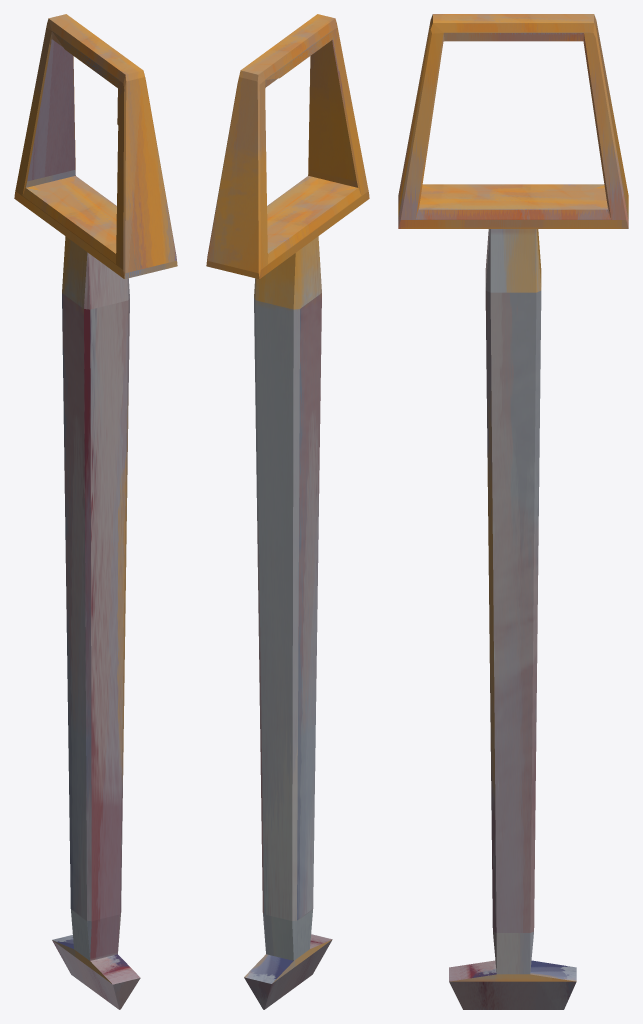
Rendered from LO_panel_opener.glb.
3 views of the same model, side by side, from view 1: azimuth 30°, elevation 25°; view 2: azimuth 150°, elevation 25°; view 3: azimuth 270°, elevation 25° (orthographic). The views are drawn at different scales.
Visible parts, largest first — view 1: panel opener; view 2: panel opener; view 3: panel opener.
Boxes of the visible parts, x1=… form: panel opener: x1=14, y1=14, x2=177, y2=1009; panel opener: x1=206, y1=14, x2=369, y2=1009; panel opener: x1=398, y1=14, x2=628, y2=1009.
Bounding box in the file's own units: 0.0284 × 0.48 × 0.1012.
Materials: 1 (1 with a texture image).
